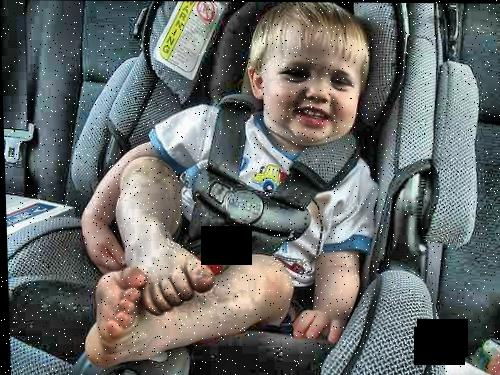seatbelt: (247, 130, 379, 232), (183, 88, 265, 192)
